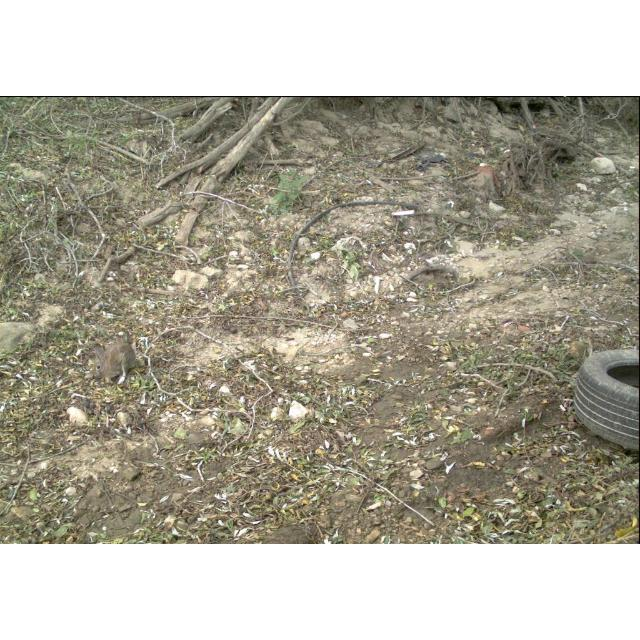animals: (90, 337, 146, 388)
